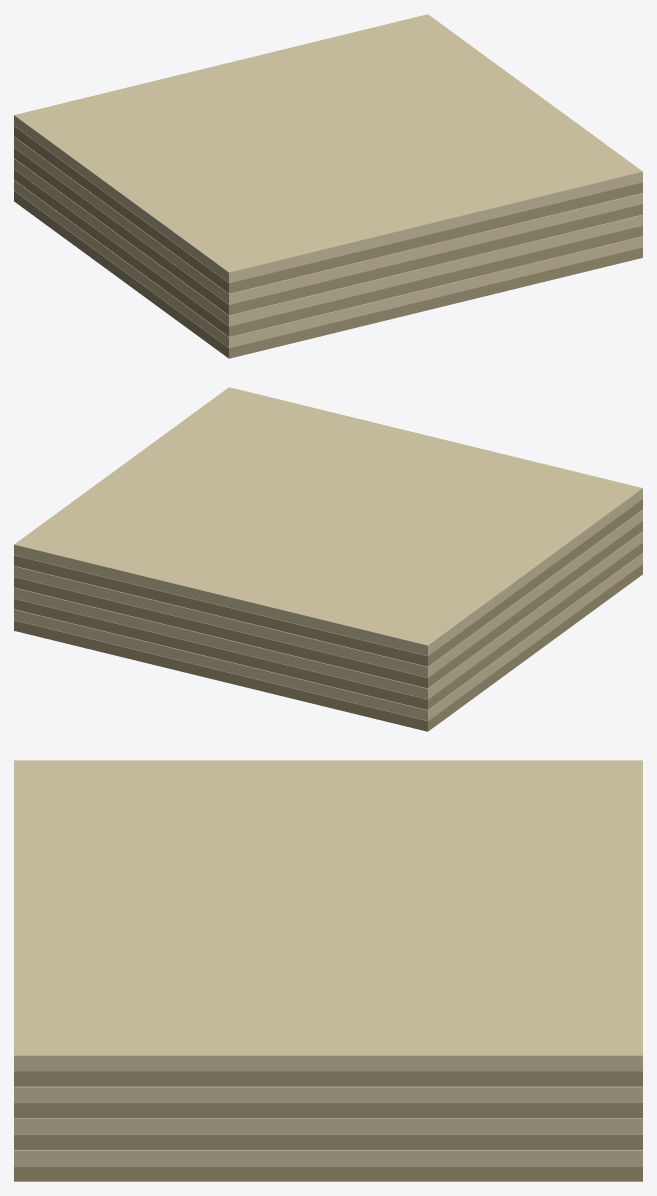
The model's file is paper.glb.
The picture shows the model from 3 angles, top to bottom: view 1: azimuth 30°, elevation 25°; view 2: azimuth 150°, elevation 25°; view 3: azimuth 270°, elevation 25°; orthographic projection. The views are drawn at different scales.
Parts seen in each view (by area): view 1: PaperLayer_7, PaperLayer_5, PaperLayer_0, PaperLayer_1, PaperLayer_3, PaperLayer_6, PaperLayer_2, PaperLayer_4; view 2: PaperLayer_7, PaperLayer_5, PaperLayer_0, PaperLayer_1, PaperLayer_3, PaperLayer_6, PaperLayer_2, PaperLayer_4; view 3: PaperLayer_7, PaperLayer_3, PaperLayer_4, PaperLayer_5, PaperLayer_0, PaperLayer_1, PaperLayer_2, PaperLayer_6.
Part boxes in pixels (x1,y1,x2,y2): PaperLayer_7: [14, 14, 642, 282]; PaperLayer_5: [14, 136, 642, 304]; PaperLayer_0: [14, 191, 642, 358]; PaperLayer_1: [14, 180, 642, 347]; PaperLayer_3: [14, 158, 642, 326]; PaperLayer_6: [14, 126, 642, 293]; PaperLayer_2: [14, 169, 642, 336]; PaperLayer_4: [14, 147, 642, 315]; PaperLayer_7: [14, 387, 642, 655]; PaperLayer_5: [14, 509, 642, 677]; PaperLayer_0: [14, 564, 642, 731]; PaperLayer_1: [14, 553, 642, 720]; PaperLayer_3: [14, 531, 642, 699]; PaperLayer_6: [14, 499, 642, 666]; PaperLayer_2: [14, 542, 642, 709]; PaperLayer_4: [14, 520, 642, 688]; PaperLayer_7: [14, 760, 642, 1070]; PaperLayer_3: [14, 1118, 642, 1134]; PaperLayer_4: [14, 1102, 642, 1118]; PaperLayer_5: [14, 1086, 642, 1102]; PaperLayer_0: [14, 1166, 642, 1181]; PaperLayer_1: [14, 1150, 642, 1165]; PaperLayer_2: [14, 1134, 642, 1149]; PaperLayer_6: [14, 1071, 642, 1086].
Size of the model in its own units: 0.4 by 0.0796 by 0.36.
